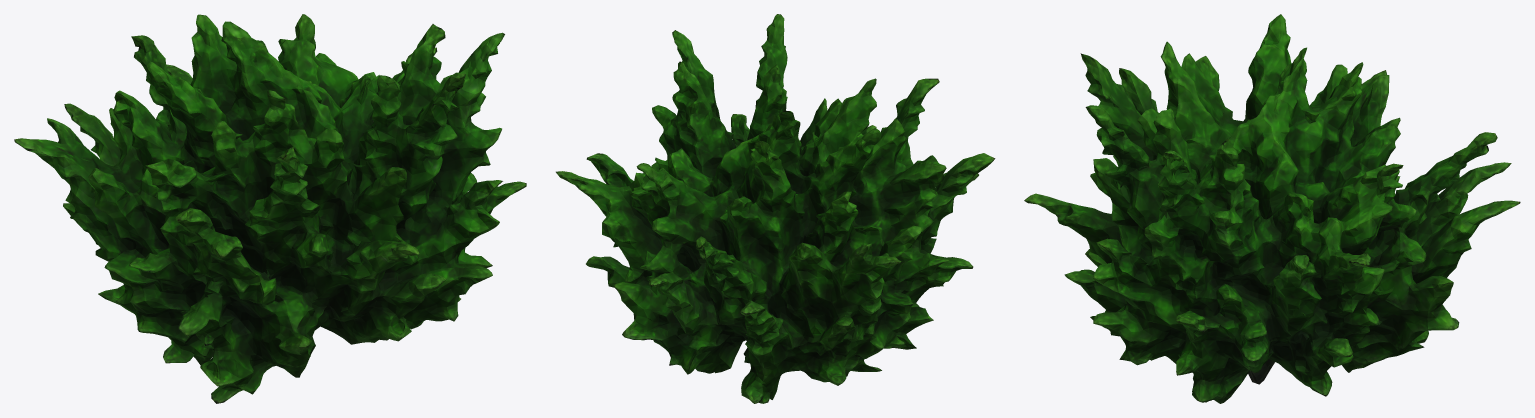
File: bush_1.glb
3 renders of one model, left to right at view 1: azimuth 30°, elevation 25°; view 2: azimuth 150°, elevation 25°; view 3: azimuth 270°, elevation 25°, orthographic. The views are drawn at different scales.
Visible parts, largest first — view 1: world; view 2: world; view 3: world.
Boxes of the visible parts, x1,y1,x2,y2 form: world: (14, 14, 526, 403); world: (556, 14, 995, 403); world: (1024, 14, 1520, 403).
Bounding box in the file's own units: 0.906 × 0.6934 × 0.9793.
1 material, 1 textured.
